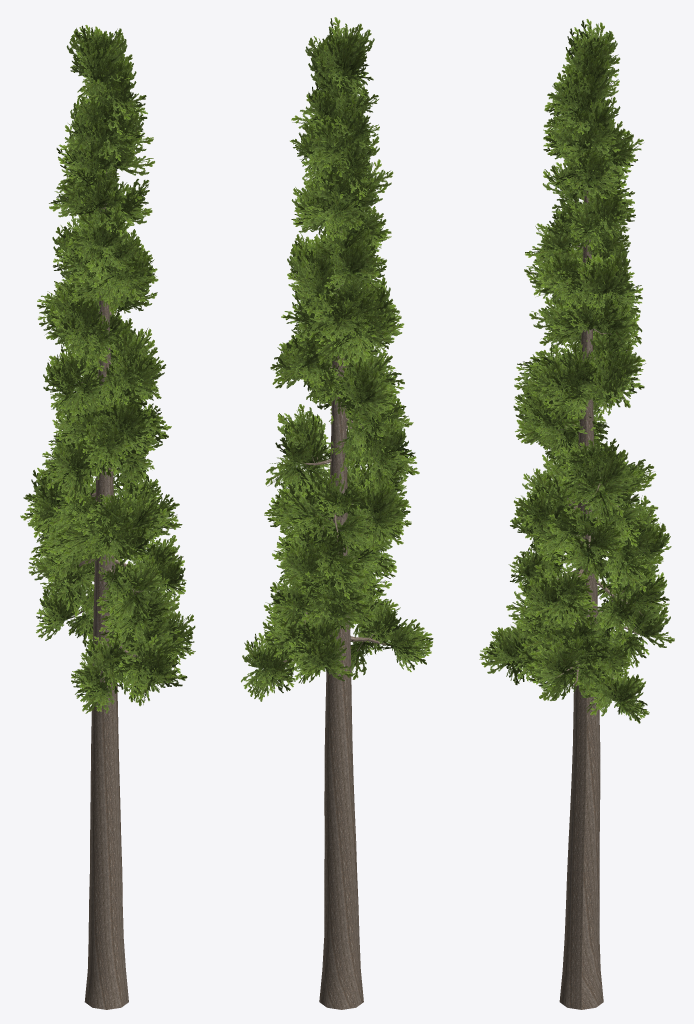
File: DouglasFir_2.obj
3 views of the same model, side by side, from view 1: azimuth 30°, elevation 25°; view 2: azimuth 150°, elevation 25°; view 3: azimuth 270°, elevation 25° (orthographic).
Parts seen in each view (by area): view 1: DouglasFir_2; view 2: DouglasFir_2; view 3: DouglasFir_2.
Part boxes in pixels (x1=…): DouglasFir_2: x1=20, y1=25, x2=195, y2=1009; DouglasFir_2: x1=241, y1=17, x2=433, y2=1009; DouglasFir_2: x1=479, y1=19, x2=674, y2=1009.
Bounding box in the file's own units: 17.12 × 102 × 19.94.
Materials: 2 (2 with a texture image).
